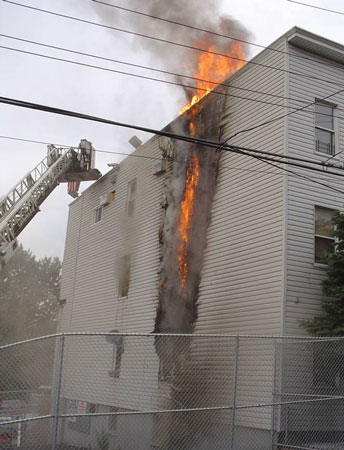fire: (178, 156, 198, 294), (193, 35, 244, 82)
smoke: (109, 1, 191, 70), (115, 177, 144, 303)
